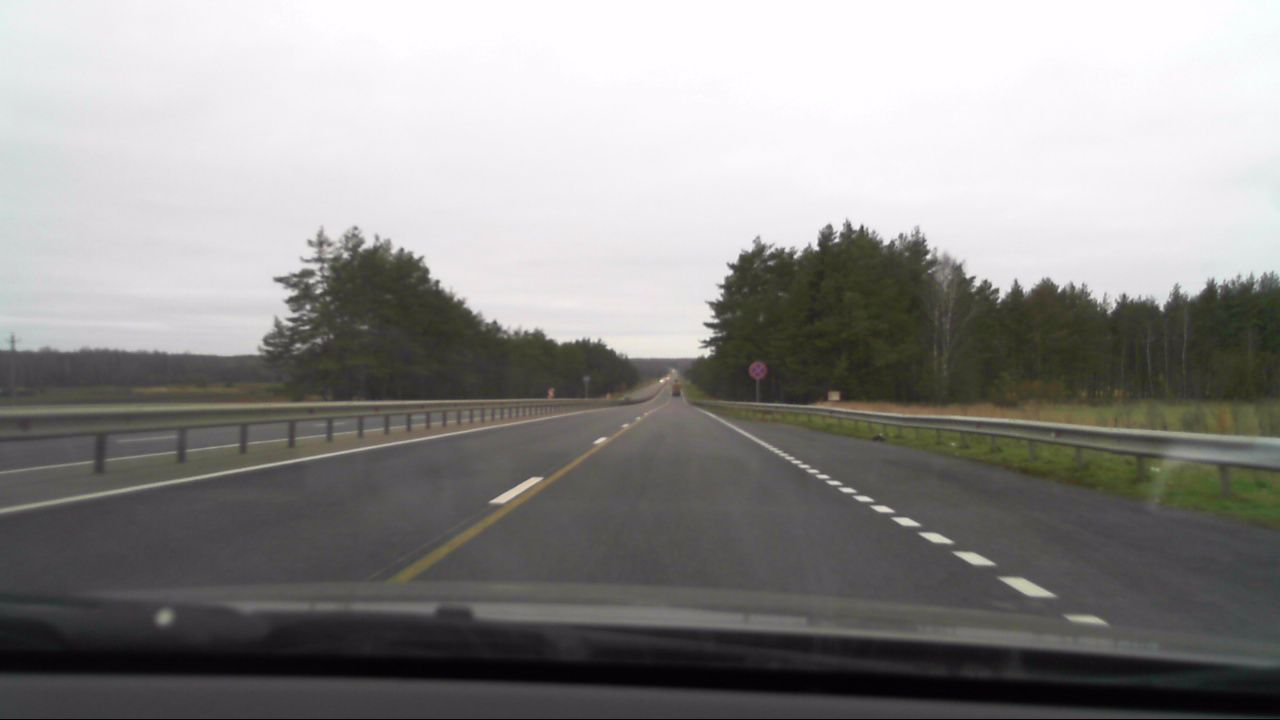No Parking: (748, 358, 768, 379)
